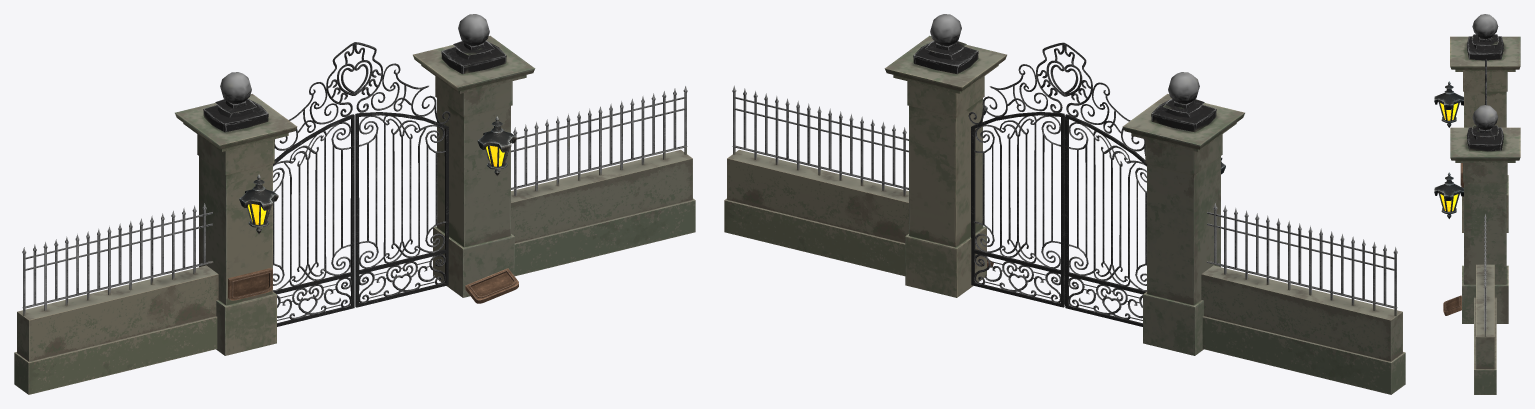
Rendered from cemgate.glb.
3 renders of one model, left to right at view 1: azimuth 30°, elevation 25°; view 2: azimuth 150°, elevation 25°; view 3: azimuth 270°, elevation 25°, orthographic. The views are drawn at different scales.
Parts seen in each view (by area): view 1: wall_low.001_5, Wall_Colum_low_4, Gate_low_2, Gate_Top_low_1, Lamp_low_3, sign_low_0; view 2: wall_low.001_5, Wall_Colum_low_4, Gate_low_2, Gate_Top_low_1; view 3: Wall_Colum_low_4, wall_low.001_5, Lamp_low_3, sign_low_0.
Part boxes in pixels (bbox=[...]): wall_low.001_5: bbox=[14, 86, 695, 394]; Wall_Colum_low_4: bbox=[175, 14, 535, 355]; Gate_low_2: bbox=[273, 112, 448, 326]; Gate_Top_low_1: bbox=[274, 42, 450, 150]; Lamp_low_3: bbox=[239, 116, 516, 234]; sign_low_0: bbox=[228, 268, 518, 303]; wall_low.001_5: bbox=[724, 85, 1405, 394]; Wall_Colum_low_4: bbox=[884, 14, 1244, 355]; Gate_low_2: bbox=[971, 112, 1146, 326]; Gate_Top_low_1: bbox=[968, 42, 1145, 155]; Wall_Colum_low_4: bbox=[1450, 14, 1520, 323]; wall_low.001_5: bbox=[1474, 214, 1496, 394]; Lamp_low_3: bbox=[1434, 81, 1463, 218]; sign_low_0: bbox=[1443, 163, 1463, 315].
Size of the model in its own units: 9.89 by 3.79 by 1.41.
7 materials, 6 textured.
